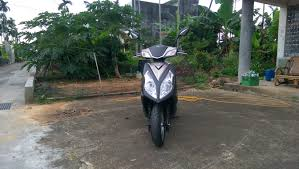motorcycle: (126, 22, 191, 148)
